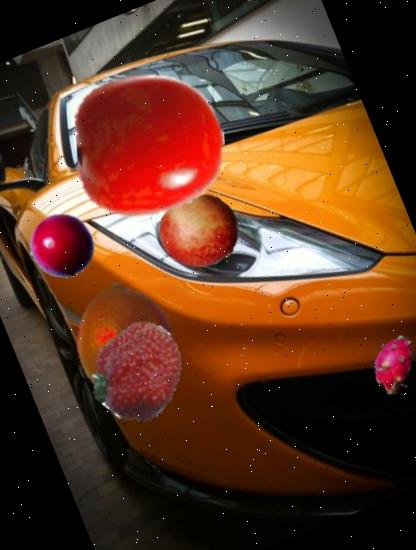Nectarine: (149, 180, 251, 282)
Pitahaya: (355, 326, 416, 402)
Strawberry: (74, 306, 202, 434)
Tamarillo: (19, 202, 104, 288)
Tangelo: (51, 265, 199, 413)
Tomato: (54, 48, 247, 240)
